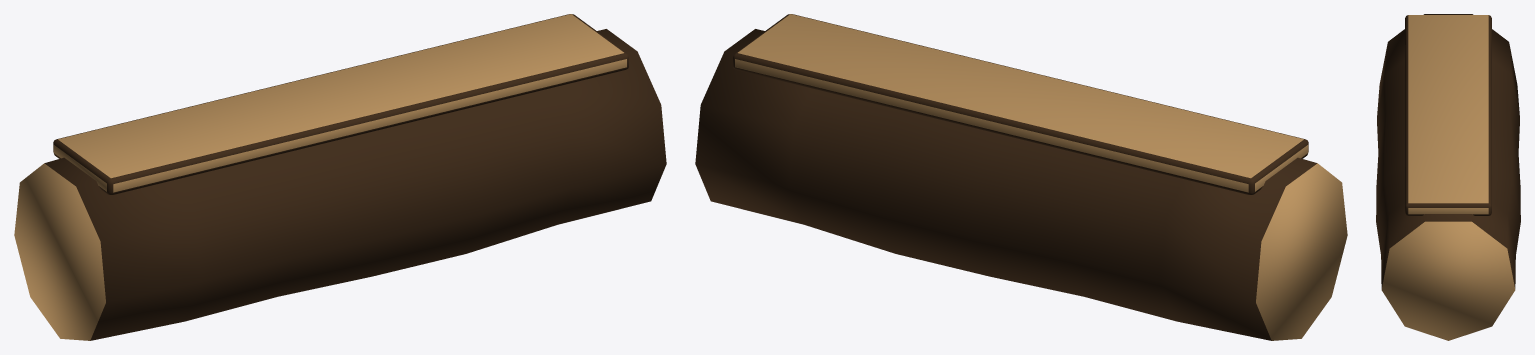
Rendered from firewood.glb.
3 renders of one model, left to right at view 1: azimuth 30°, elevation 25°; view 2: azimuth 150°, elevation 25°; view 3: azimuth 270°, elevation 25°, orthographic. The views are drawn at different scales.
Parts seen in each view (by area): view 1: Firewood; view 2: Firewood; view 3: Firewood.
Part boxes in pixels (x1,y1,x2,y2): Firewood: (14,14,666,340); Firewood: (695,14,1347,340); Firewood: (1376,14,1520,340).
Bounding box in the file's own units: 0.42 × 0.1274 × 0.1248.
